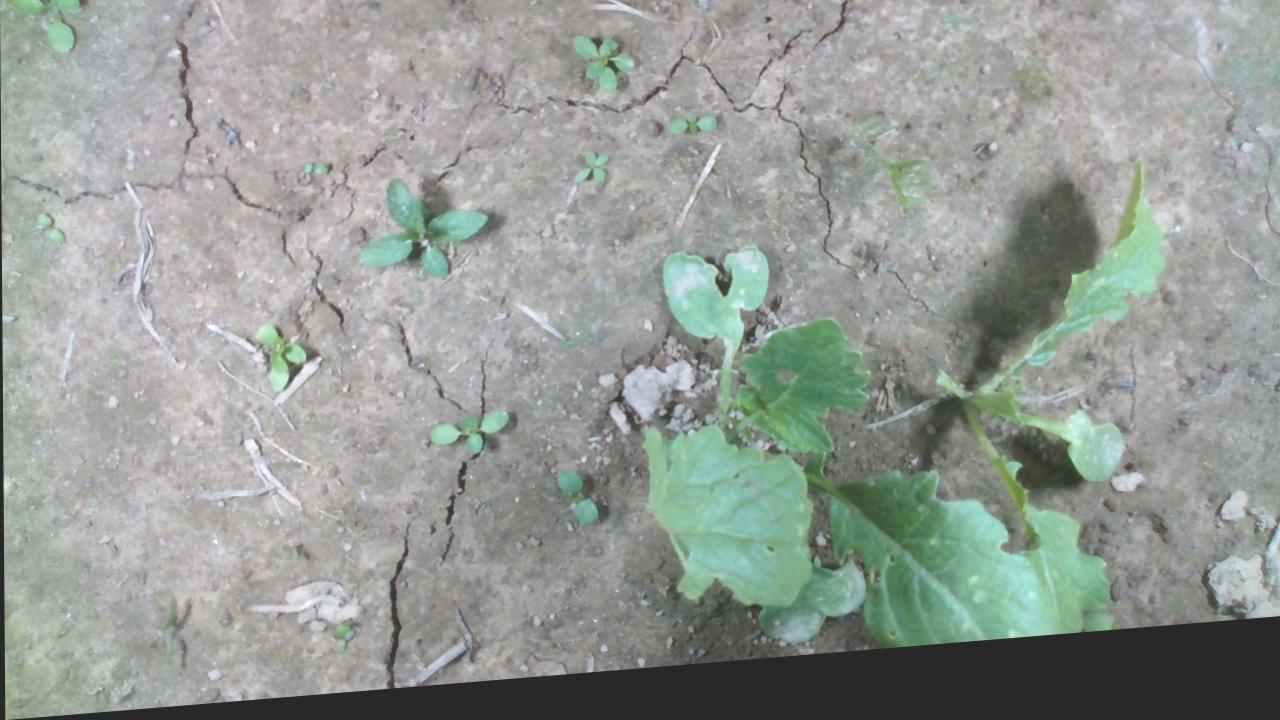weed: (354, 176, 492, 292), (569, 39, 637, 106), (424, 417, 510, 469), (250, 326, 309, 398), (552, 473, 598, 544), (664, 120, 715, 154), (572, 158, 608, 198), (32, 210, 64, 248), (298, 162, 328, 179)
